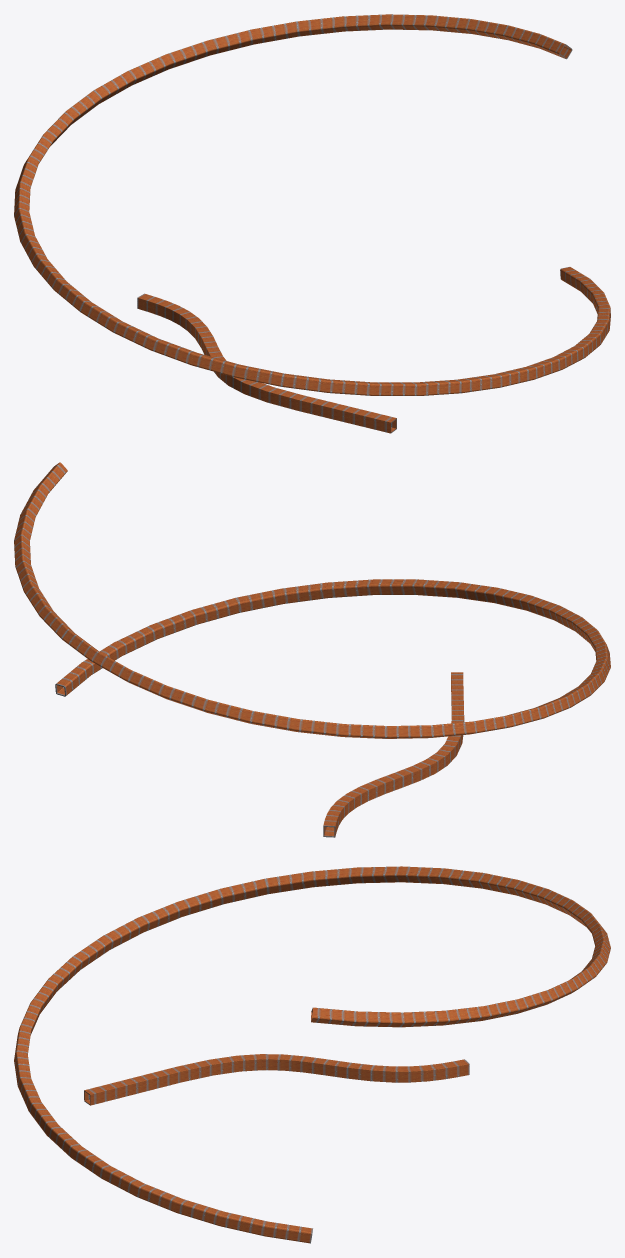
The model's file is curve road.FBX.
3 renders of one model, top to bottom at view 1: azimuth 30°, elevation 25°; view 2: azimuth 150°, elevation 25°; view 3: azimuth 270°, elevation 25°, orthographic.
Parts seen in each view (by area): view 1: Helix001, Line001; view 2: Helix001, Line001; view 3: Helix001, Line001.
Part boxes in pixels (x1=…): Helix001: x1=14, y1=14, x2=610, y2=395; Line001: x1=137, y1=293, x2=396, y2=433; Helix001: x1=14, y1=462, x2=610, y2=738; Line001: x1=323, y1=672, x2=464, y2=837; Helix001: x1=14, y1=866, x2=610, y2=1243; Line001: x1=84, y1=1054, x2=469, y2=1105.
Size of the model in its own units: 294 by 127 by 294.
1 material, 1 textured.
